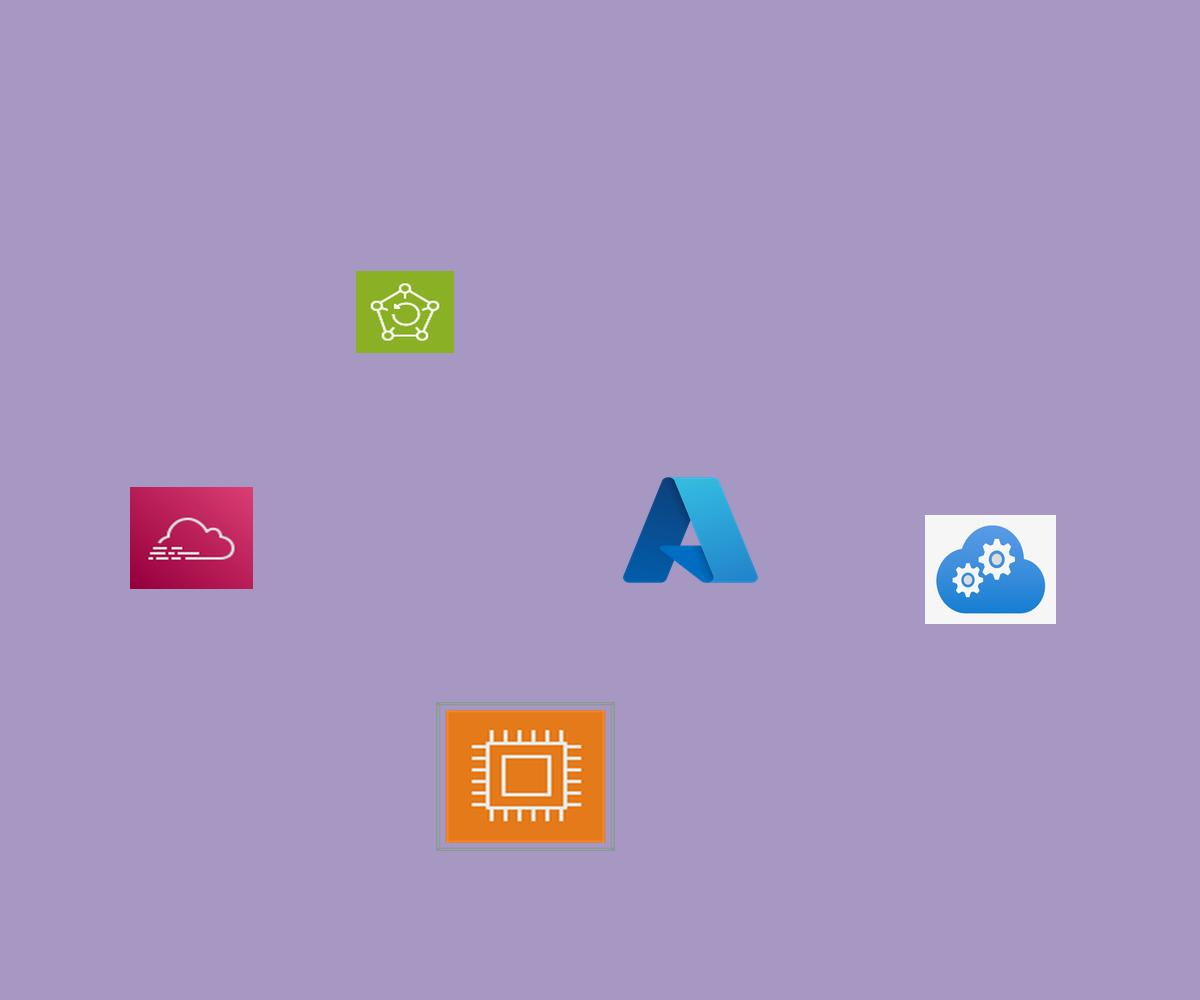AWS-Backup: (356, 271, 454, 353)
AWS-Category_Compute: (436, 702, 615, 851)
AWS-CloudTrail: (130, 487, 253, 589)
Azure_cloud_services: (925, 515, 1056, 624)
Azure_services: (617, 469, 764, 591)
